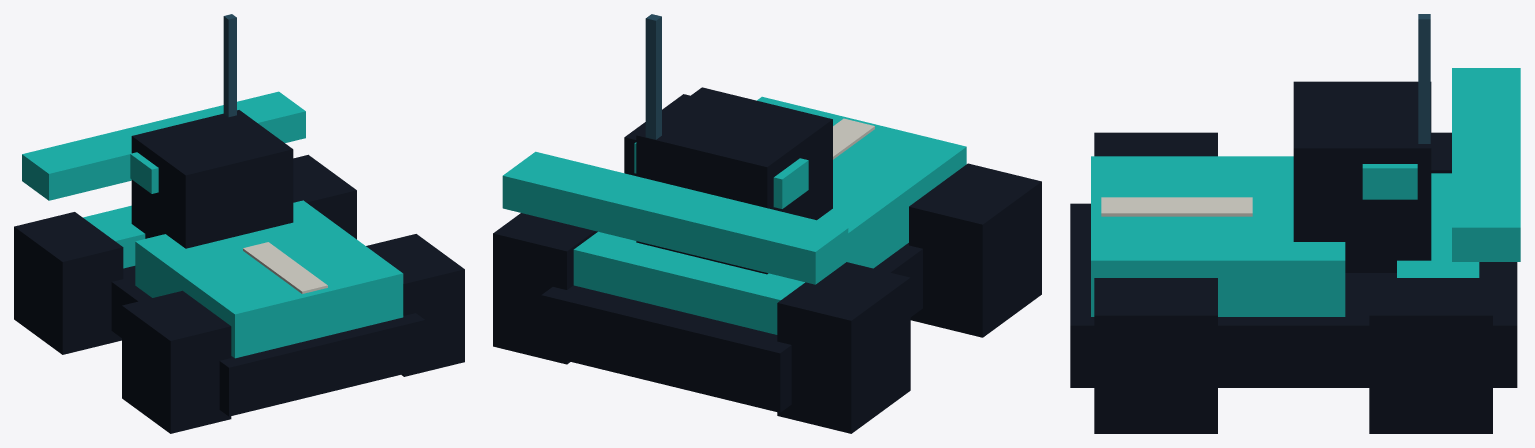
File: kart-fast-0.glb
3 renders of one model, left to right at view 1: azimuth 30°, elevation 25°; view 2: azimuth 150°, elevation 25°; view 3: azimuth 270°, elevation 25°, orthographic. The views are drawn at different scales.
Visible parts, largest first — view 1: Kart; view 2: Kart; view 3: Kart.
Part boxes in pixels (<box>): Kart: <box>14,14,464,433</box>; Kart: <box>493,14,1041,433</box>; Kart: <box>1070,14,1520,433</box>.
Size of the model in its own units: 0.63 by 0.565 by 0.655.
